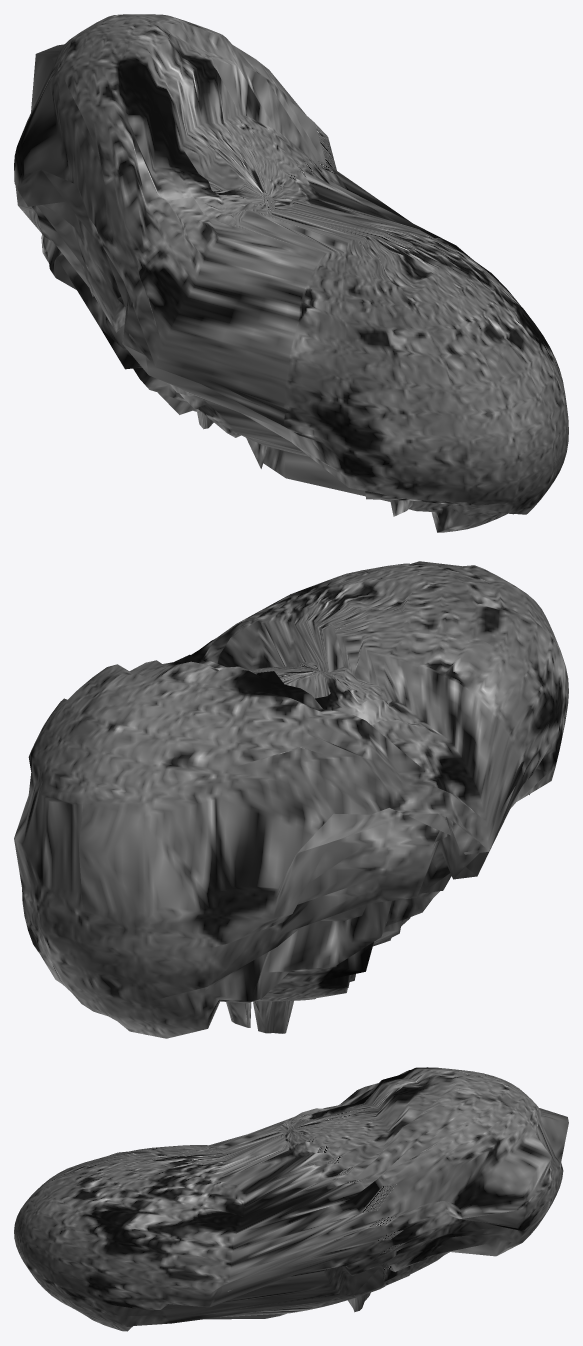
File: eros.fbx
The picture shows the model from 3 angles, top to bottom: view 1: azimuth 30°, elevation 25°; view 2: azimuth 150°, elevation 25°; view 3: azimuth 270°, elevation 25°; orthographic projection. The views are drawn at different scales.
Visible parts, largest first — view 1: pSphere1; view 2: pSphere1; view 3: pSphere1.
Boxes of the visible parts, x1,y1,x2,y2 form: pSphere1: [14, 14, 568, 532]; pSphere1: [14, 561, 568, 1038]; pSphere1: [14, 1067, 568, 1331].
Size of the model in its own units: 13.57 by 13.99 by 29.9.
1 material, 1 textured.
